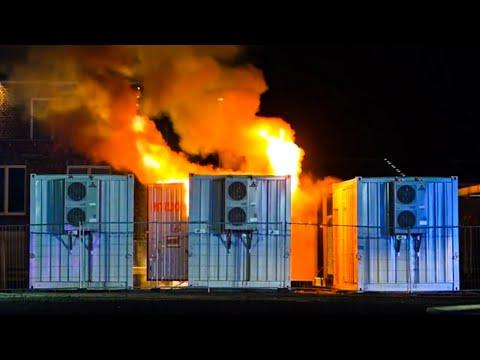fire: (39, 49, 317, 175)
